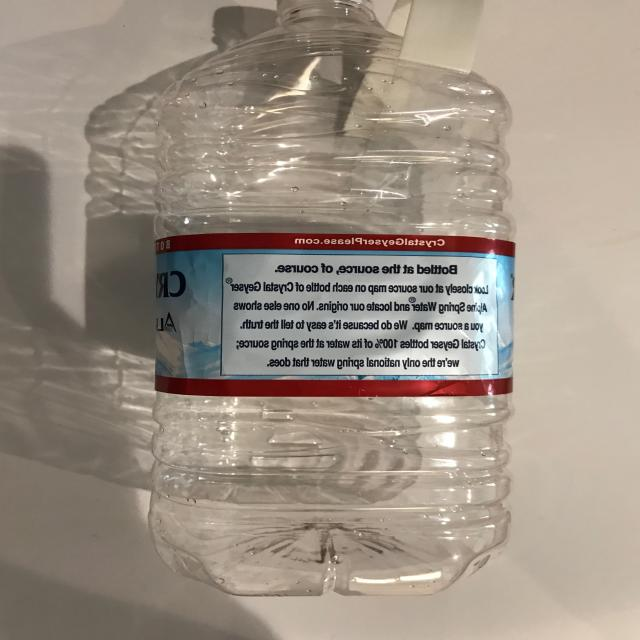plastic: (148, 0, 517, 597)
